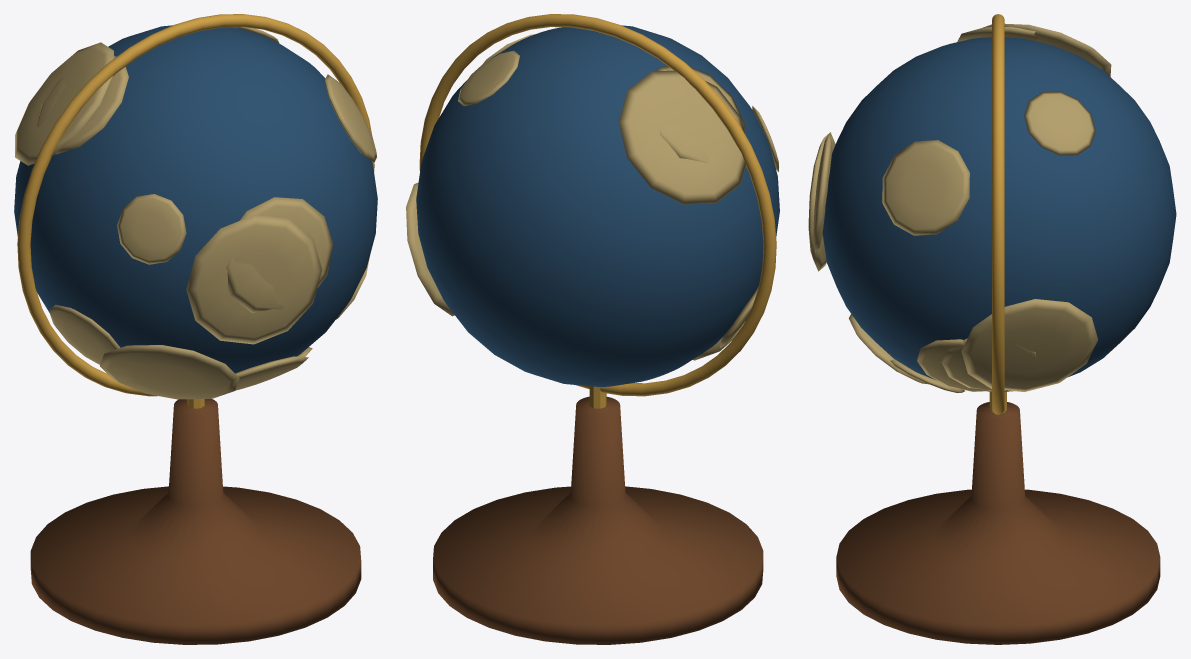
File: globe.glb
The picture shows the model from 3 angles, left to right: view 1: azimuth 30°, elevation 25°; view 2: azimuth 150°, elevation 25°; view 3: azimuth 270°, elevation 25°; orthographic projection. The views are drawn at different scales.
Parts seen in each view (by area): view 1: globe; view 2: globe; view 3: globe.
Part boxes in pixels (x1,y1,x2,y2): globe: (14,14,377,644); globe: (406,14,779,644); globe: (808,14,1176,644).
Bounding box in the file's own units: 0.3719 × 0.556 × 0.3408.
